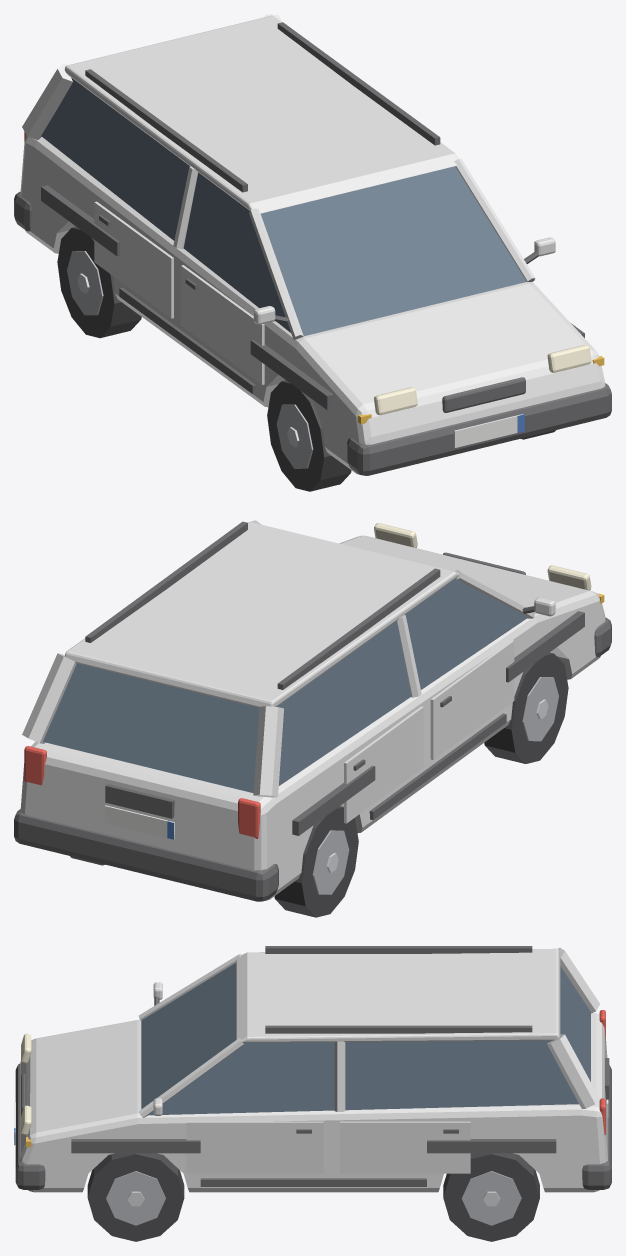
The model's file is car-suv.glb.
3 renders of one model, top to bottom at view 1: azimuth 30°, elevation 25°; view 2: azimuth 150°, elevation 25°; view 3: azimuth 270°, elevation 25°, orthographic. The views are drawn at different scales.
Parts seen in each view (by area): view 1: body, detach_bumper_front, wheel-front-right, wheel-back-right, detach_door_right; view 2: body, detach_bumper_back, wheel-front-right, wheel-back-right, detach_door_right, detach_bumper_front; view 3: body, detach_door_left, wheel-front-left, wheel-back-left, detach_bumper_front, detach_bumper_back.
Part boxes in pixels (x1,y1,x2,y2): body: (20, 14, 605, 474); detach_bumper_front: (347, 383, 611, 475); wheel-front-right: (267, 380, 351, 491); wheel-back-right: (57, 226, 141, 338); detach_door_right: (181, 265, 264, 384); body: (20, 520, 605, 900); detach_bumper_back: (14, 809, 278, 901); wheel-front-right: (484, 652, 568, 763); wheel-back-right: (274, 806, 358, 917); detach_door_right: (430, 640, 514, 759); detach_bumper_front: (594, 617, 611, 657); body: (19, 946, 609, 1192); detach_door_left: (186, 1121, 323, 1173); wheel-front-left: (87, 1153, 184, 1241); wheel-back-left: (443, 1153, 539, 1241); detach_bumper_front: (14, 1063, 45, 1189); detach_bumper_back: (582, 1065, 611, 1189).
Bounding box in the file's own units: 2.24 × 1.72 × 4.57.
